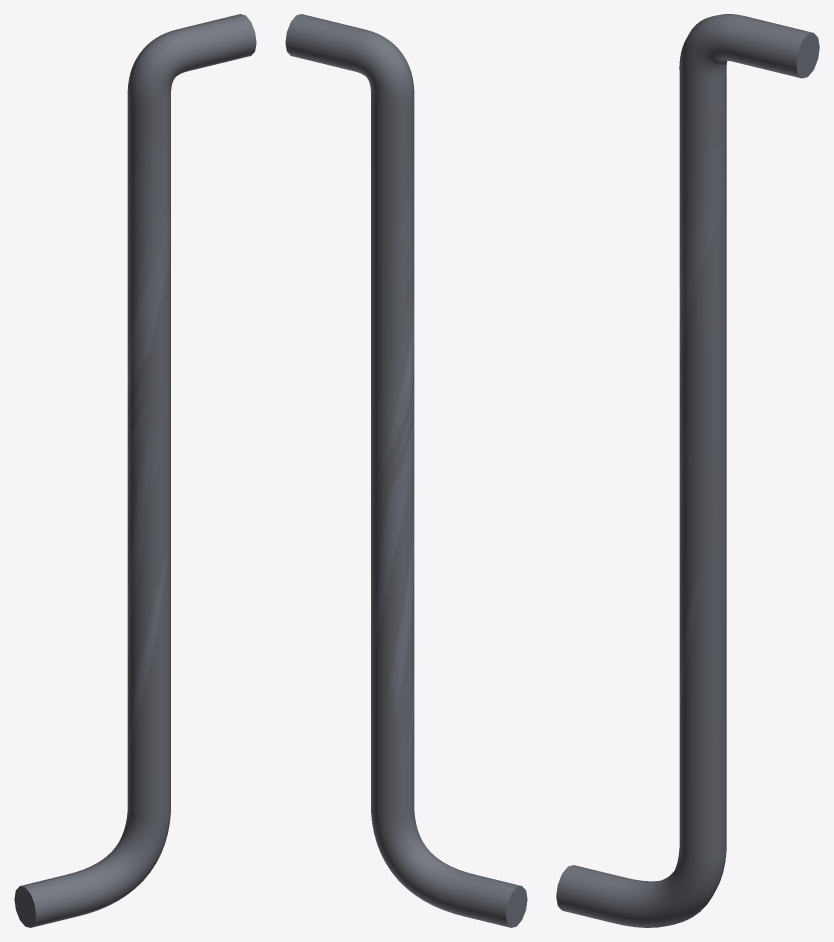
Rendered from m_gutter_long_angle.FBX.
3 views of the same model, side by side, from view 1: azimuth 30°, elevation 25°; view 2: azimuth 150°, elevation 25°; view 3: azimuth 330°, elevation 25° (orthographic). The views are drawn at different scales.
Visible parts, largest first — view 1: gutter_long_angle; view 2: gutter_long_angle; view 3: gutter_long_angle.
Boxes of the visible parts, x1,y1,x2,y2 form: gutter_long_angle: (14,14,256,927); gutter_long_angle: (285,14,527,927); gutter_long_angle: (556,14,819,927).
Bounding box in the file's own units: 29.38 × 109 × 5.
